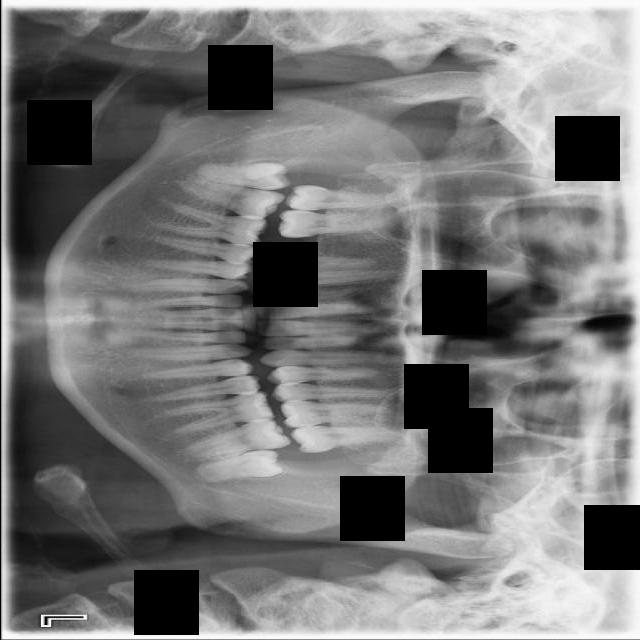73: (82, 612, 96, 622)
BioHorizons Implant: (288, 418, 409, 456)
Biomet 3i Implant: (192, 446, 283, 488)
Blue Sky Bio Implant: (178, 412, 292, 468)
Caries: (284, 184, 398, 214)
Implant: (173, 175, 286, 224)
Keystone Dental Implant: (195, 161, 291, 192)
